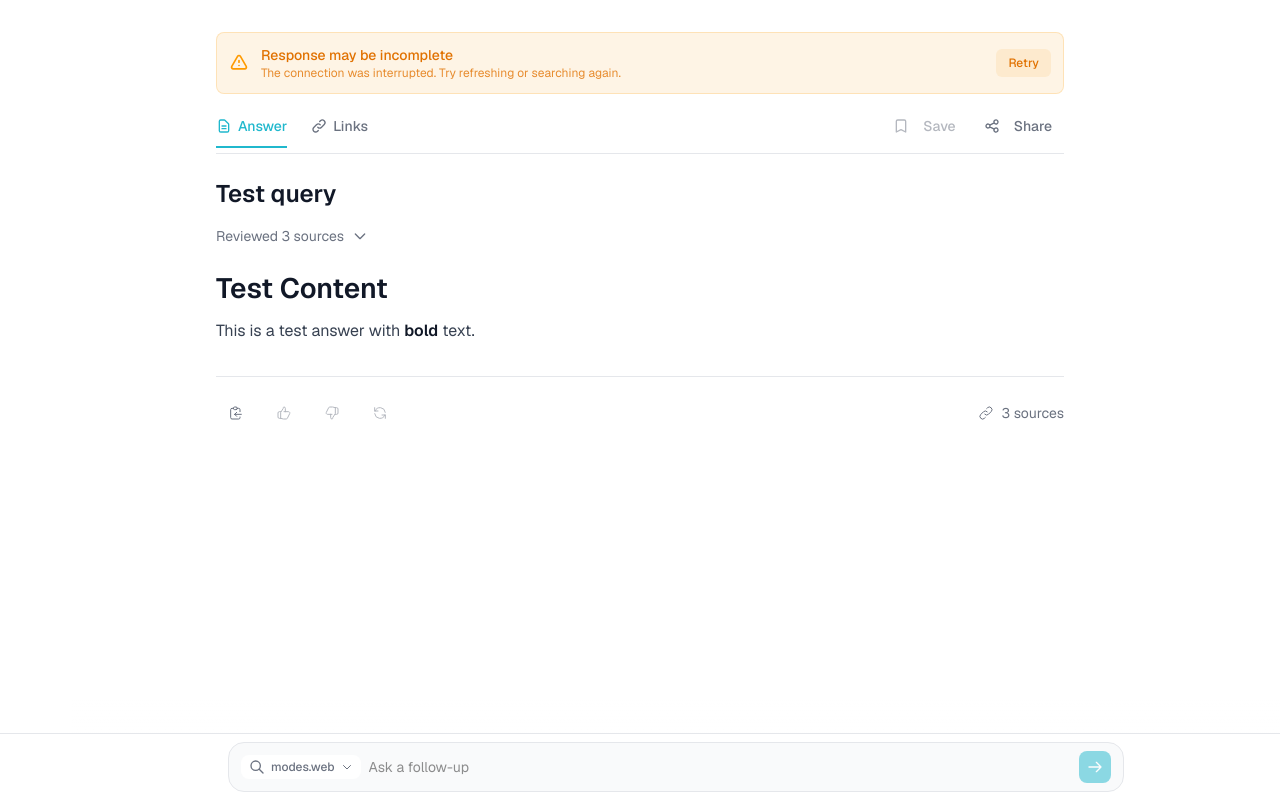
Test case: SearchResult › Answer Tab › expands sources when clicked
Click the button "Reviewed 3 sources" at (292, 236), box [216, 226, 368, 246]
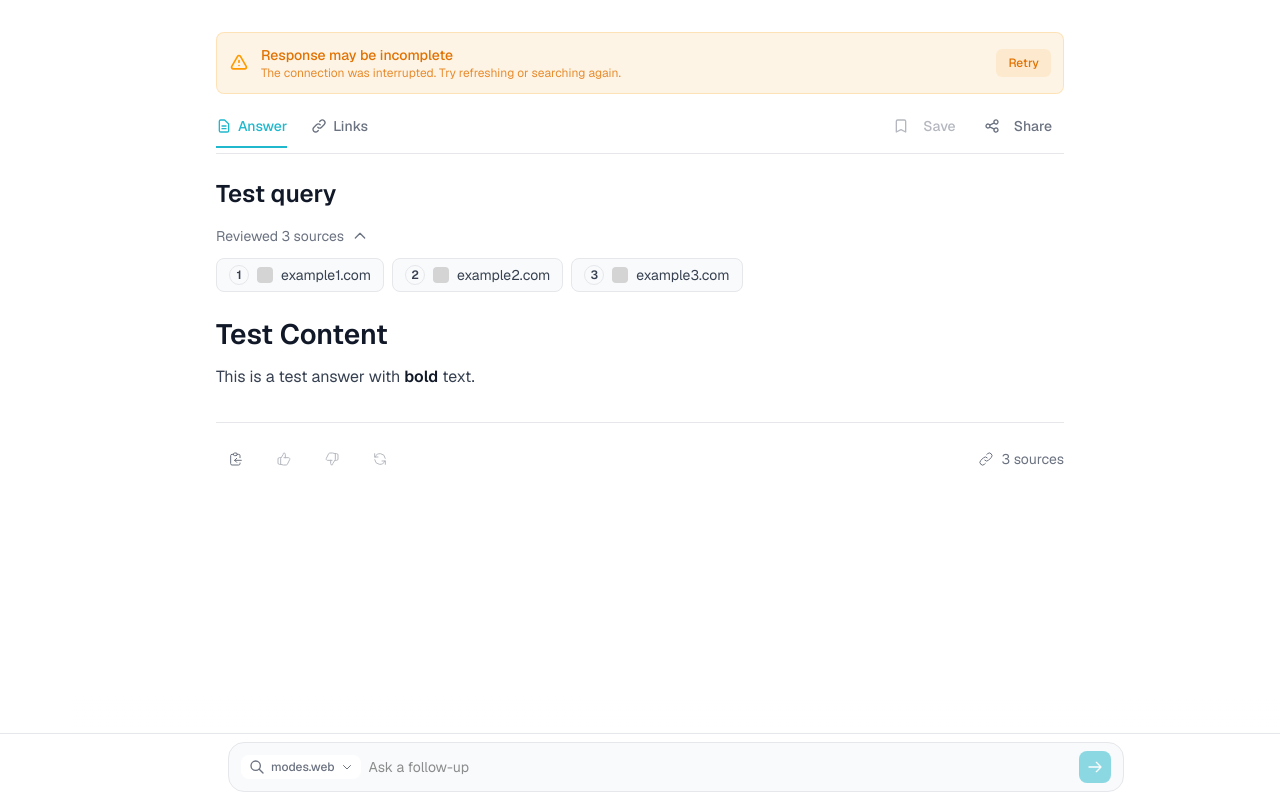
expect the link "1 example1.com" is shown: met, box [216, 258, 384, 292]
